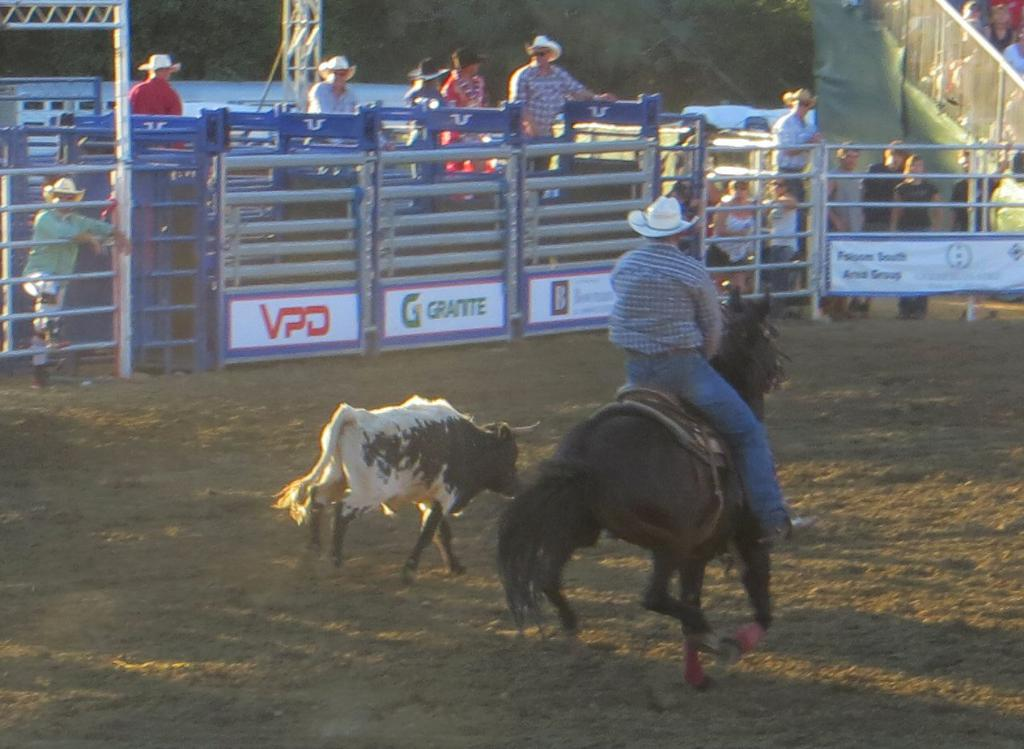horse: (496, 283, 792, 694)
